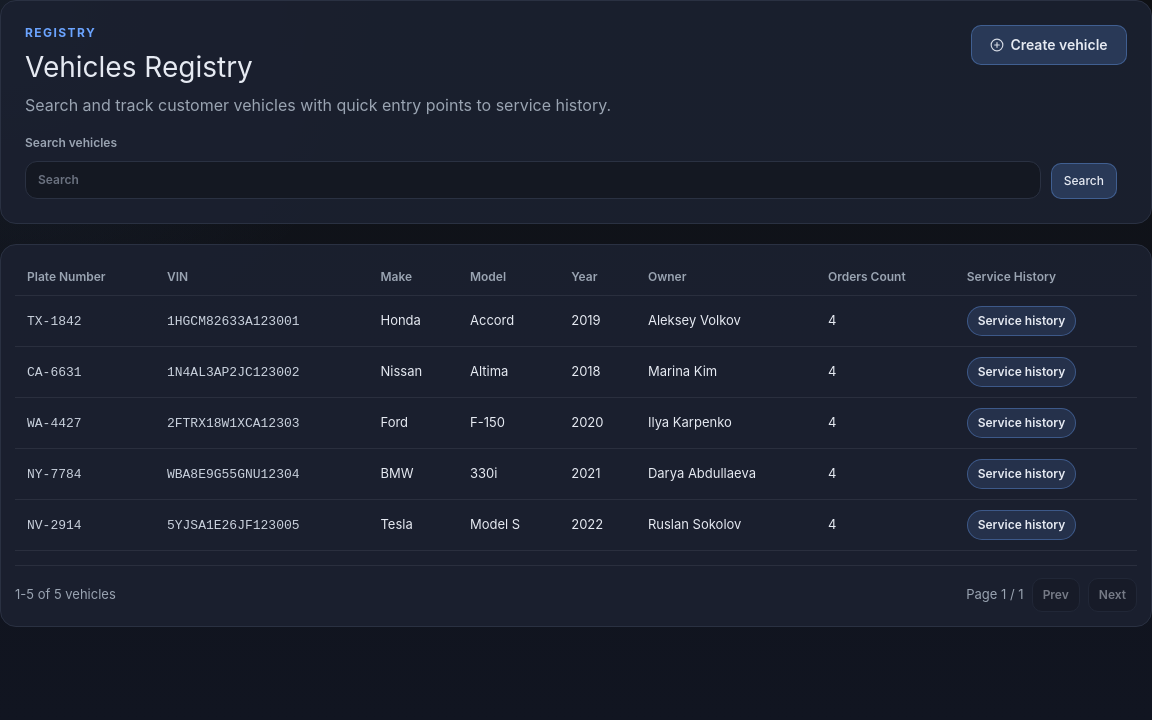
VehiclesRegistry › applies search and shows clear button
The width and height of the screenshot is (1152, 720).
Expected: the column heading "Plate Number" is shown, [15,259,155,296]
Type "tesla" into the field labelled "Search vehicles" at (533, 180), box [25,161,1041,199]
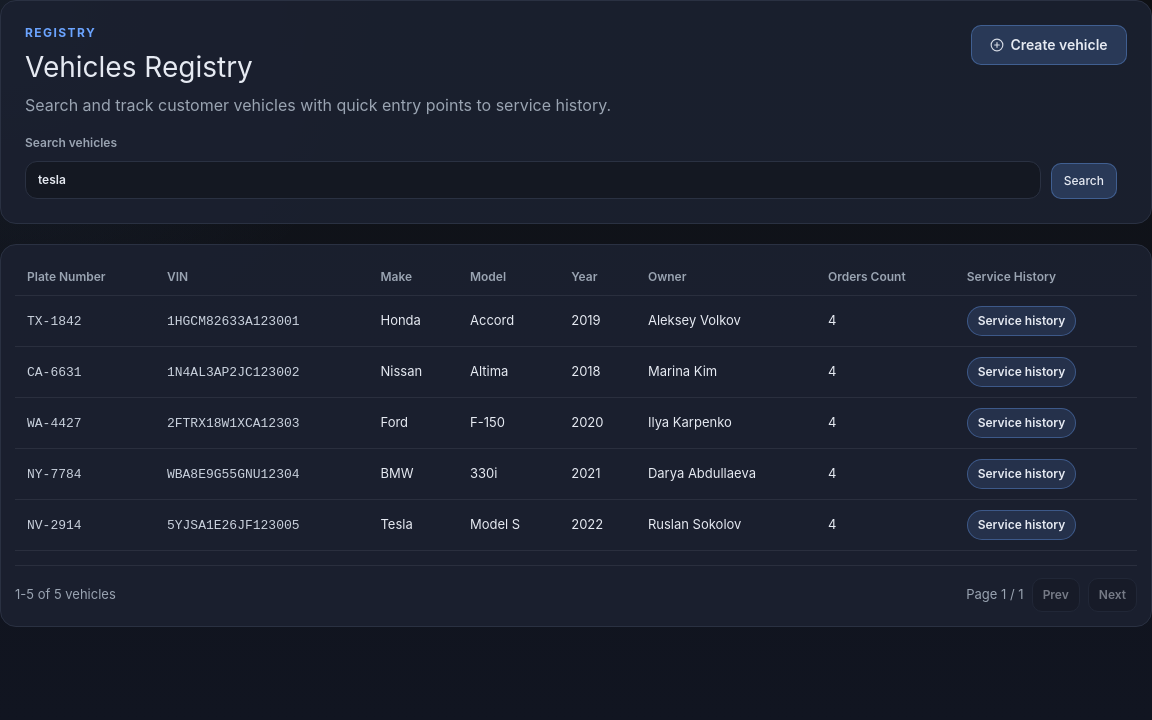
Click the button "Search" at (1084, 181), box [1051,163,1117,199]
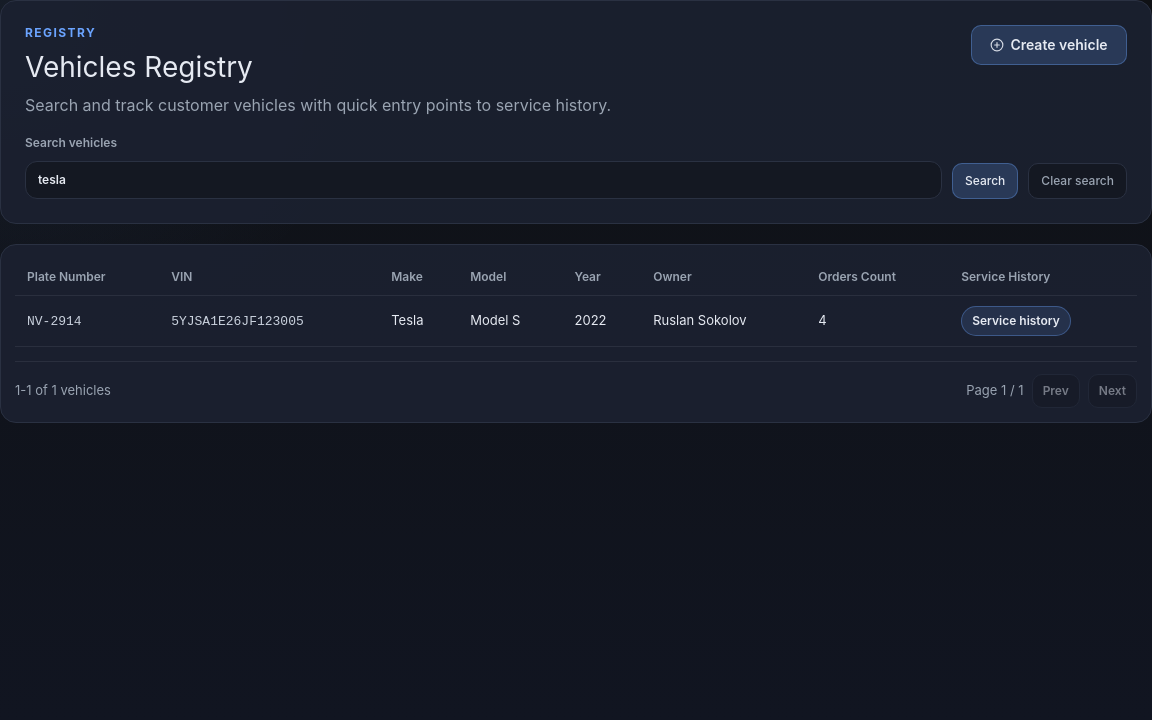
Expected: the text "Tesla" is shown, [379,296,458,347]
Result: the button "Clear search" is shown at [1028,163,1127,199]
